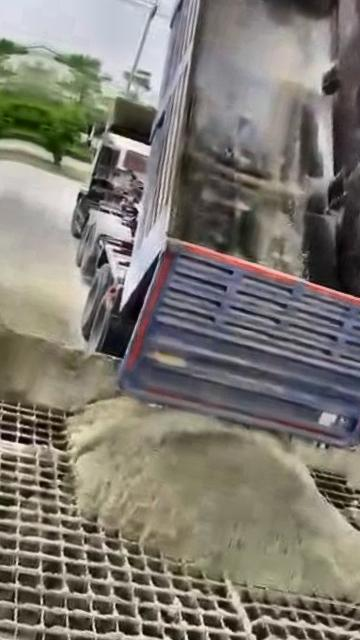sand: (70, 397, 359, 597), (0, 310, 116, 410), (289, 415, 360, 493), (228, 582, 281, 640), (0, 424, 58, 464)
